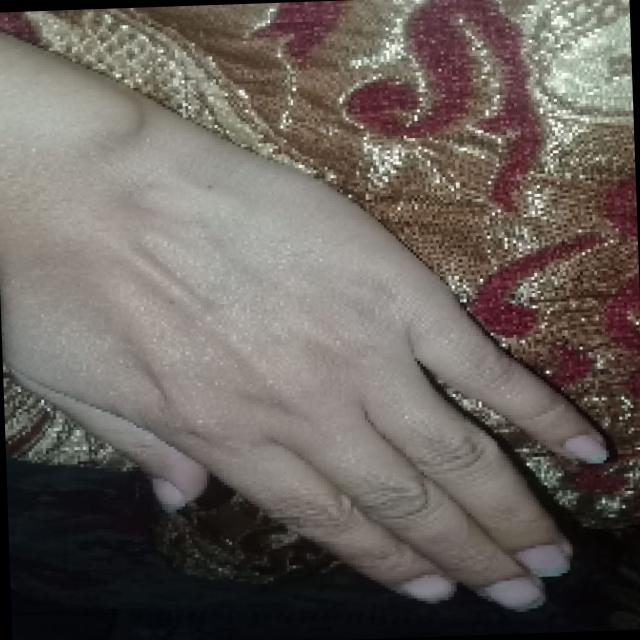Nail: (487, 576, 542, 610), (516, 542, 569, 576), (401, 573, 454, 601), (563, 433, 606, 462), (152, 476, 186, 507)
